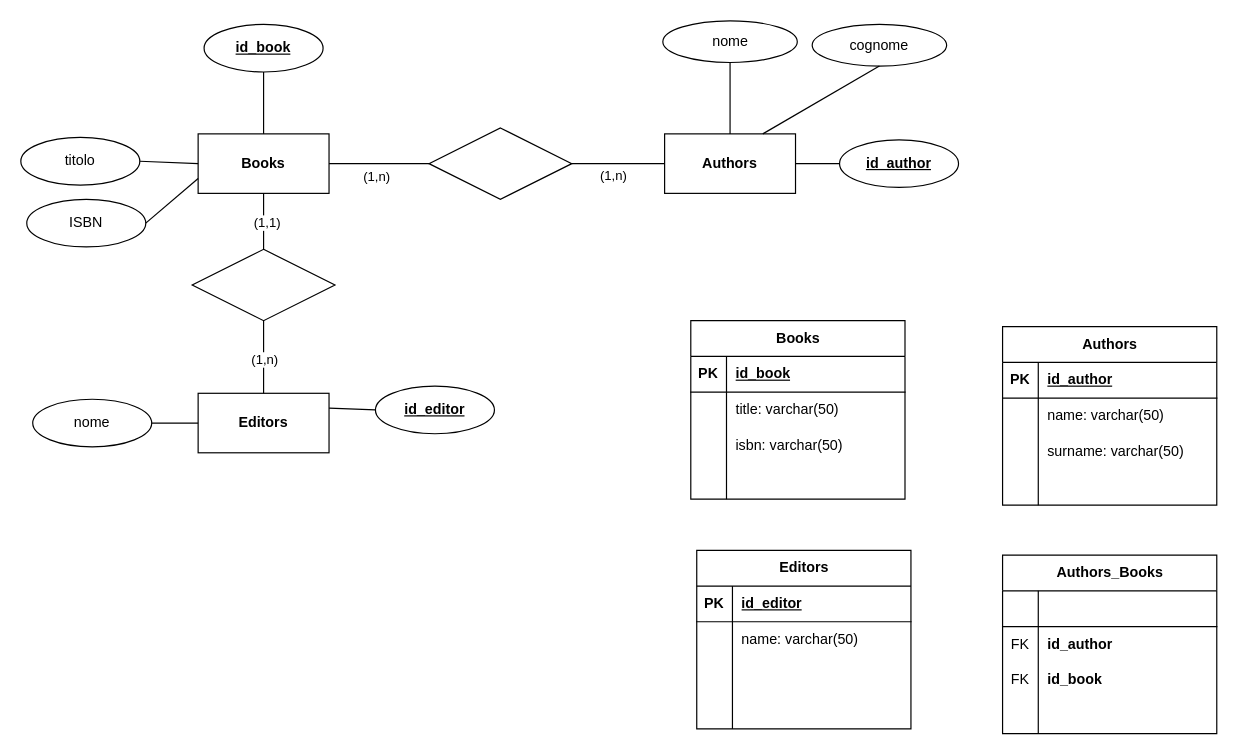
Image size: 1238x754. Some labels were removed from this diagram. The centre of each missing label's shape, as x and y in pixels:
pubblicare: [263,284]
scrivere: [500,163]
